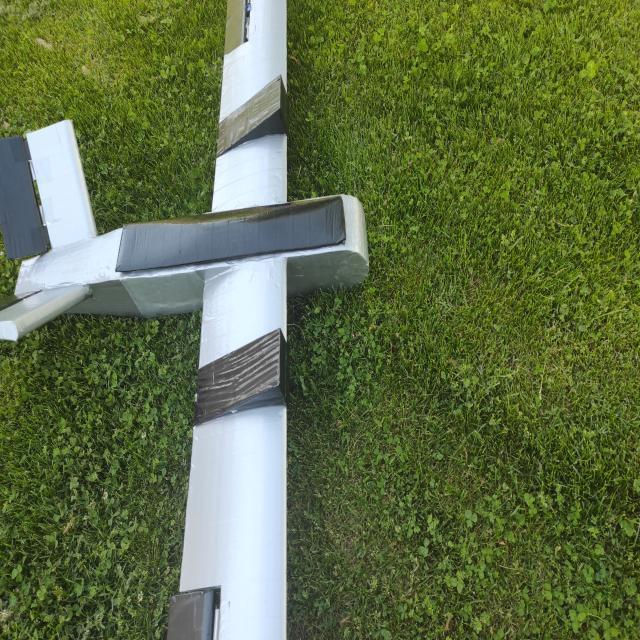iha: (0, 3, 359, 640)
